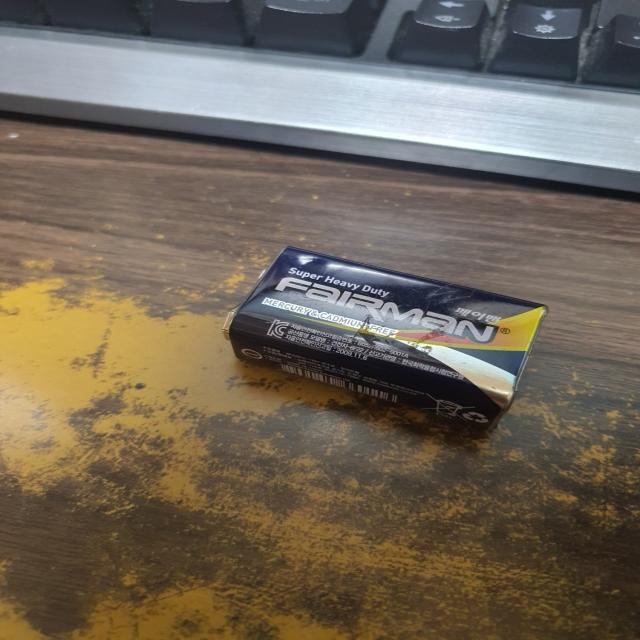battery-etc-etc: (223, 241, 548, 434)
